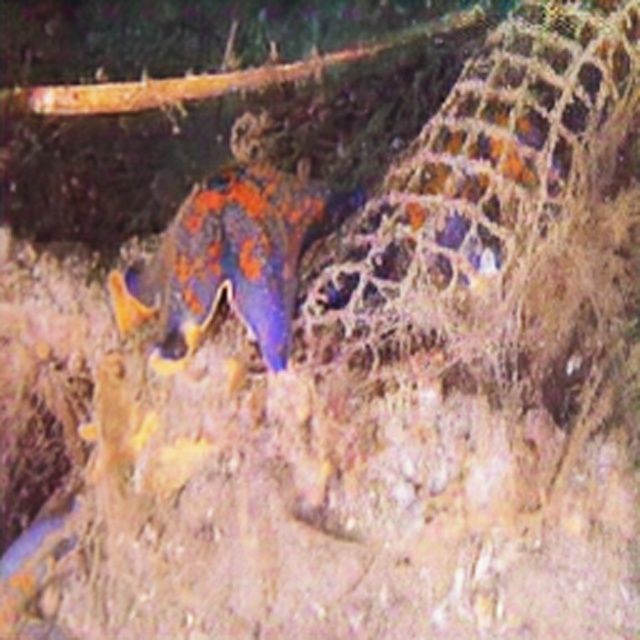mine: (289, 0, 639, 335)
